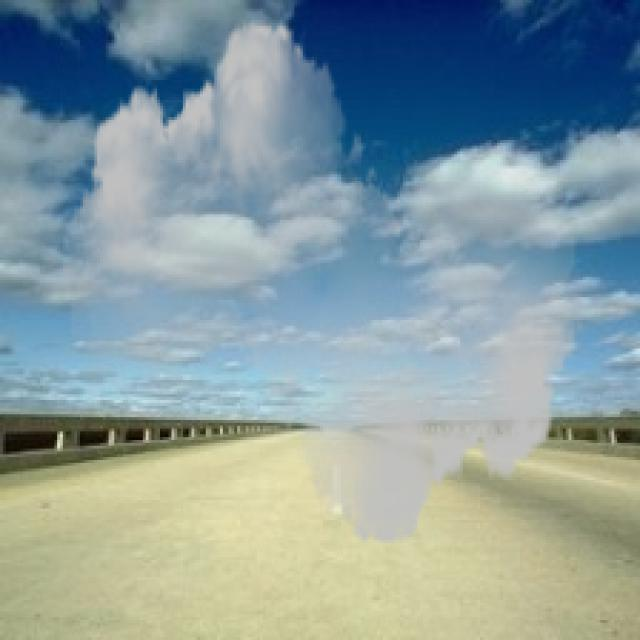smoke: (63, 3, 583, 563)
